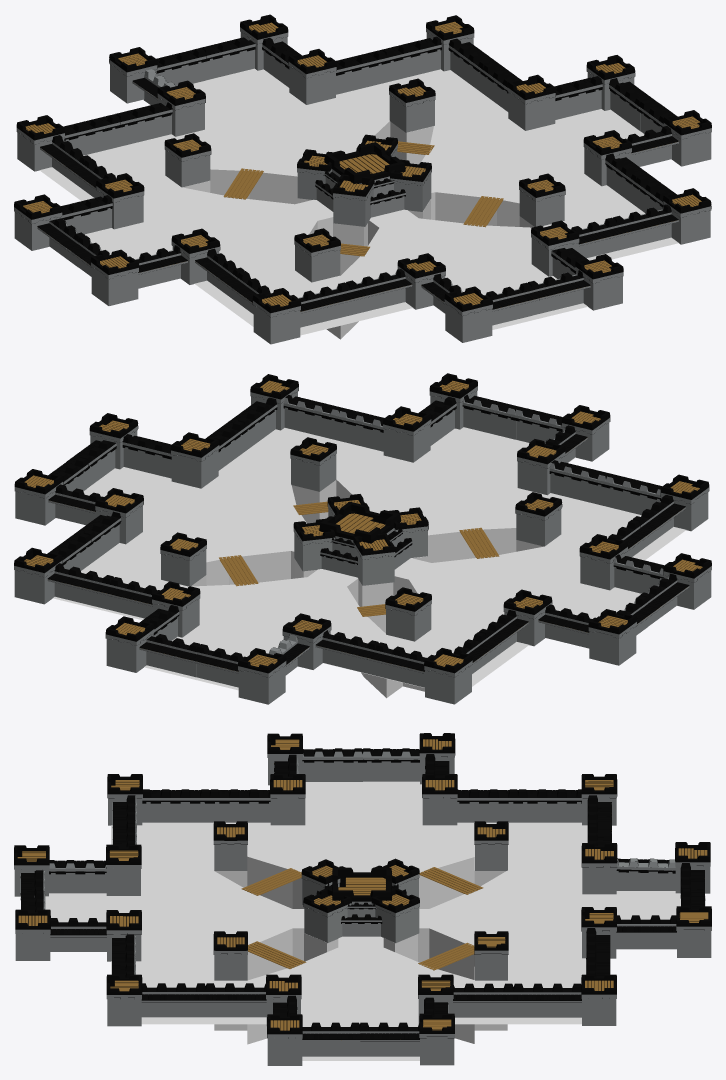
The model's file is BackupMapFloor.fbx.
3 renders of one model, top to bottom at view 1: azimuth 30°, elevation 25°; view 2: azimuth 150°, elevation 25°; view 3: azimuth 270°, elevation 25°, orthographic.
Visible parts, largest first — view 1: Plane, Wallhub.028|Top|Dupli|1, PaintableWalls, Wallhub.020|PaintableWalls|Dupli|2, Wallhub.019|PaintableWalls|Dupli|2, Wallhub.015|PaintableWalls|Dupli|2, Wallhub.017|PaintableWalls|Dupli|2, Wallhub.009|PaintableWalls|Dupli|2, Wallhub.016|PaintableWalls|Dupli|2, Wallhub.008|PaintableWalls|Dupli|2, Wallhub.012|PaintableWalls|Dupli|2, Wall.009|Paintable|Dupli| (+84 smaller); view 2: Plane, Wallhub.028|Top|Dupli|1, Wallhub.025|PaintableWalls|Dupli|2, Wallhub.018|PaintableWalls|Dupli|2, Wallhub.013|PaintableWalls|Dupli|2, Wallhub.011|PaintableWalls|Dupli|2, Wallhub.002|PaintableWalls|Dupli|2, Wallhub.012|PaintableWalls|Dupli|2, Wallhub.009|PaintableWalls|Dupli|2, Wallhub.008|PaintableWalls|Dupli|2, Wallhub.016|PaintableWalls|Dupli|2, Wall.006|Paintable|Dupli| (+80 smaller); view 3: Plane, Paintable, Wallhub.028|Top|Dupli|1, Wall.005|Paintable|Dupli|, Wall.003|Paintable|Dupli|, Wall|Paintable|Dupli|, Wall.020|Paintable|Dupli|, Wall.022|Paintable|Dupli|, Wall.016|Paintable|Dupli|, Wall.031|Paintable|Dupli|, Wallhub.005|PaintableWalls|Dupli|2, Wallhub.006|PaintableWalls|Dupli|2 (+71 smaller).
Boxes of the visible parts, bbox=[...] form: Plane: bbox=[39, 68, 678, 339]; Wallhub.028|Top|Dupli|1: bbox=[324, 142, 405, 183]; PaintableWalls: bbox=[253, 305, 300, 344]; Wallhub.020|PaintableWalls|Dupli|2: bbox=[445, 304, 492, 342]; Wallhub.019|PaintableWalls|Dupli|2: bbox=[91, 267, 138, 305]; Wallhub.015|PaintableWalls|Dupli|2: bbox=[508, 92, 555, 130]; Wallhub.017|PaintableWalls|Dupli|2: bbox=[289, 66, 335, 104]; Wallhub.009|PaintableWalls|Dupli|2: bbox=[295, 245, 340, 282]; Wallhub.016|PaintableWalls|Dupli|2: bbox=[389, 95, 434, 132]; Wallhub.008|PaintableWalls|Dupli|2: bbox=[165, 150, 210, 187]; Wallhub.012|PaintableWalls|Dupli|2: bbox=[519, 190, 564, 226]; Wall.009|Paintable|Dupli|: bbox=[385, 49, 440, 82]; Plane: bbox=[53, 427, 685, 698]; Wallhub.028|Top|Dupli|1: bbox=[319, 501, 400, 543]; Wallhub.025|PaintableWalls|Dupli|2: bbox=[238, 665, 285, 704]; Wallhub.018|PaintableWalls|Dupli|2: bbox=[589, 626, 636, 665]; Wallhub.013|PaintableWalls|Dupli|2: bbox=[171, 450, 218, 488]; Wallhub.011|PaintableWalls|Dupli|2: bbox=[383, 424, 430, 462]; Wallhub.002|PaintableWalls|Dupli|2: bbox=[425, 665, 471, 704]; Wallhub.012|PaintableWalls|Dupli|2: bbox=[291, 454, 336, 491]; Wallhub.009|PaintableWalls|Dupli|2: bbox=[516, 509, 561, 546]; Wallhub.008|PaintableWalls|Dupli|2: bbox=[386, 604, 431, 641]; Wallhub.016|PaintableWalls|Dupli|2: bbox=[161, 549, 206, 586]; Wall.006|Paintable|Dupli|: bbox=[550, 473, 606, 506]; Plane: bbox=[45, 781, 680, 1060]; Paintable: bbox=[142, 802, 209, 822]; Wallhub.028|Top|Dupli|1: bbox=[332, 867, 391, 904]; Wall.005|Paintable|Dupli|: bbox=[517, 802, 581, 822]; Wall.003|Paintable|Dupli|: bbox=[457, 802, 518, 822]; Wall|Paintable|Dupli|: bbox=[209, 802, 270, 822]; Wall.020|Paintable|Dupli|: bbox=[302, 761, 362, 781]; Wall.022|Paintable|Dupli|: bbox=[49, 873, 106, 893]; Wall.016|Paintable|Dupli|: bbox=[363, 761, 419, 781]; Wall.031|Paintable|Dupli|: bbox=[616, 871, 675, 890]; Wallhub.005|PaintableWalls|Dupli|2: bbox=[375, 907, 419, 943]; Wallhub.006|PaintableWalls|Dupli|2: bbox=[304, 907, 347, 943].
Bounding box in the file's own units: 4053 × 660 × 4069.
